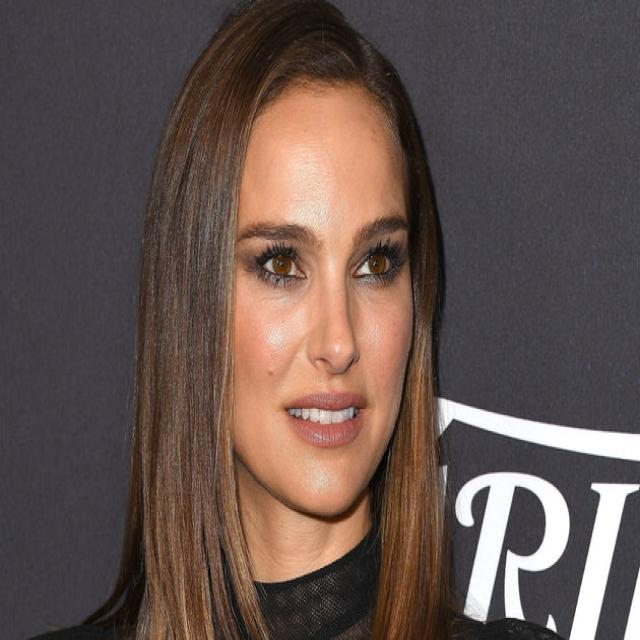human: (104, 4, 506, 640)
